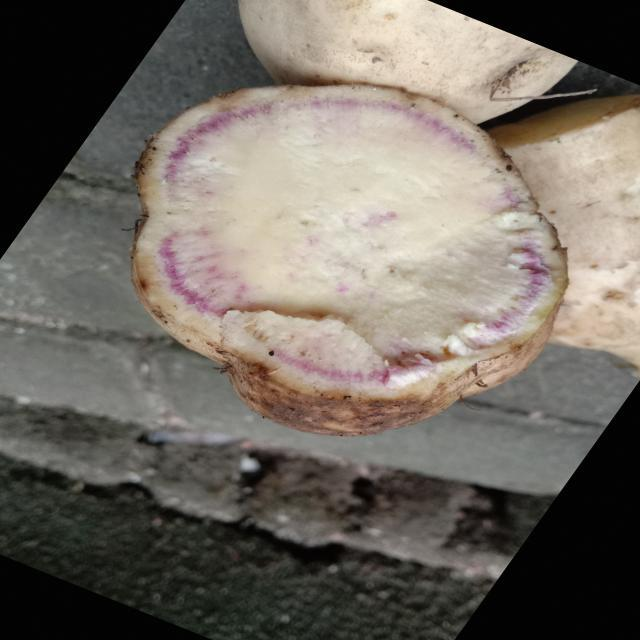Healthy Sweet Potato: (132, 85, 567, 436)
